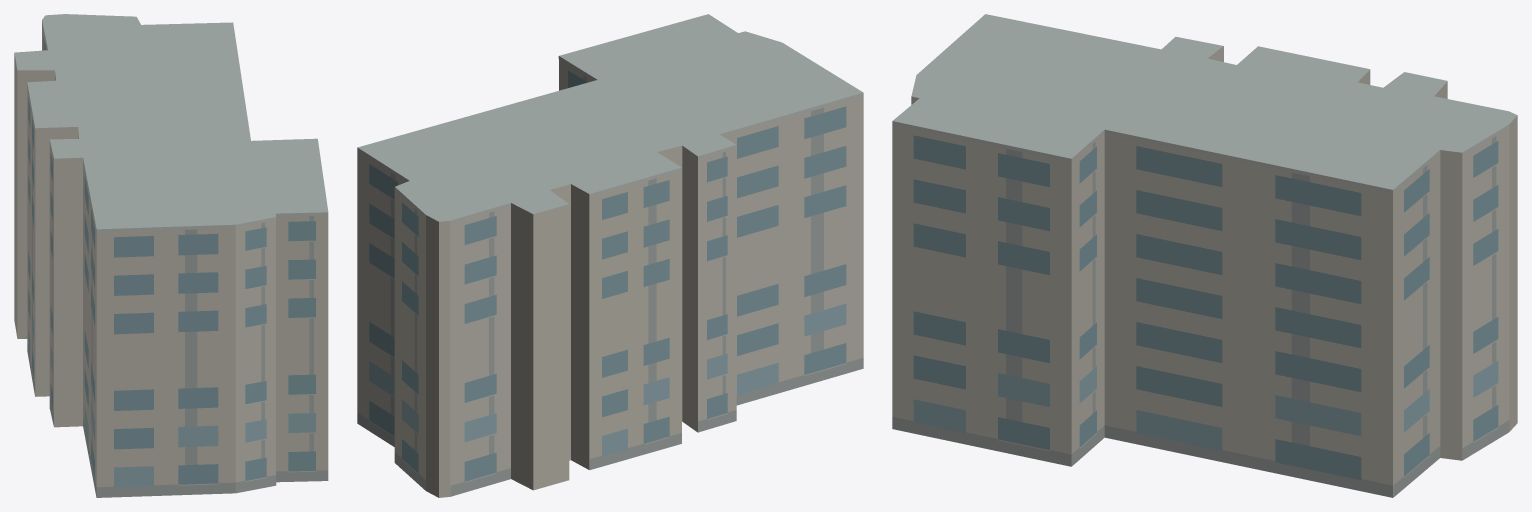
Rendered from survey-upis-32497639.glb.
The picture shows the model from 3 angles, left to right: view 1: azimuth 30°, elevation 25°; view 2: azimuth 150°, elevation 25°; view 3: azimuth 270°, elevation 25°; orthographic projection. The views are drawn at different scales.
Parts seen in each view (by area): view 1: survey-upis-32497639.tmp; view 2: survey-upis-32497639.tmp; view 3: survey-upis-32497639.tmp.
Part boxes in pixels (left/top/right/bottom): survey-upis-32497639.tmp: left=14, top=14, right=328, bottom=497; survey-upis-32497639.tmp: left=357, top=14, right=863, bottom=497; survey-upis-32497639.tmp: left=892, top=14, right=1517, bottom=497.
Bounding box in the file's own units: 24.14 × 19.7 × 36.25.
